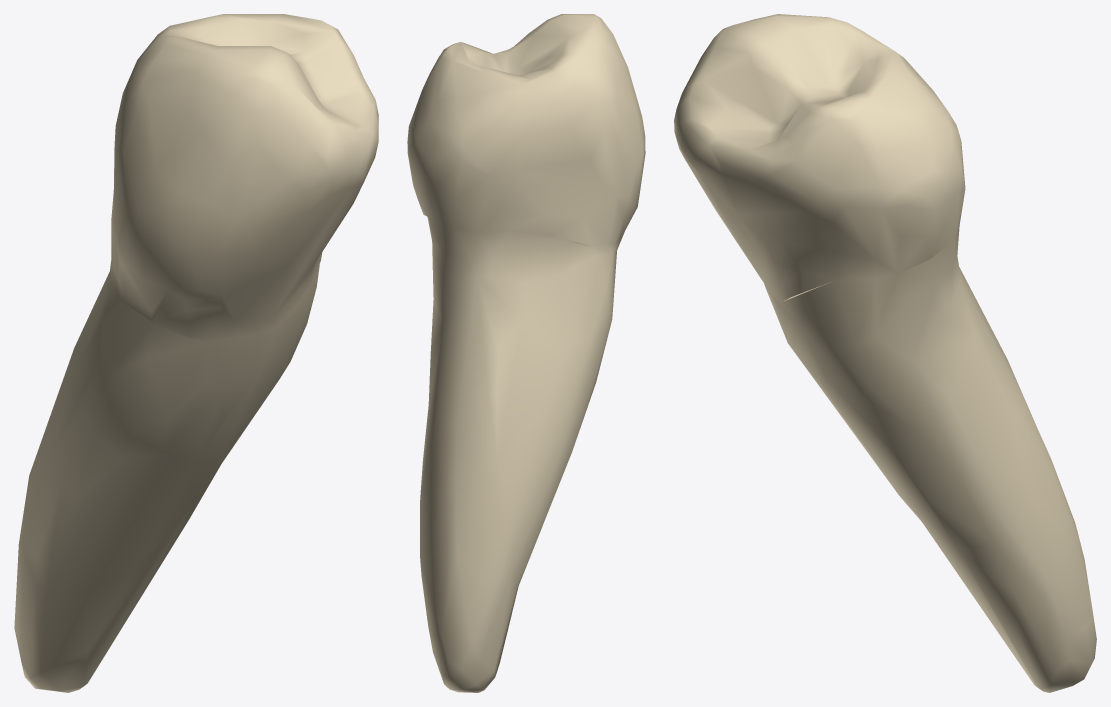
File: esqueleto-lower-second-premolar-r.glb
3 renders of one model, left to right at view 1: azimuth 30°, elevation 25°; view 2: azimuth 150°, elevation 25°; view 3: azimuth 270°, elevation 25°, orthographic. The views are drawn at different scales.
Visible parts, largest first — view 1: Lower second premolar.r; view 2: Lower second premolar.r; view 3: Lower second premolar.r.
Part boxes in pixels (x1,y1,x2,y2): Lower second premolar.r: (14, 14, 378, 692); Lower second premolar.r: (407, 14, 645, 692); Lower second premolar.r: (674, 14, 1096, 692).
Bounding box in the file's own units: 0.00794 × 0.0228 × 0.013.
